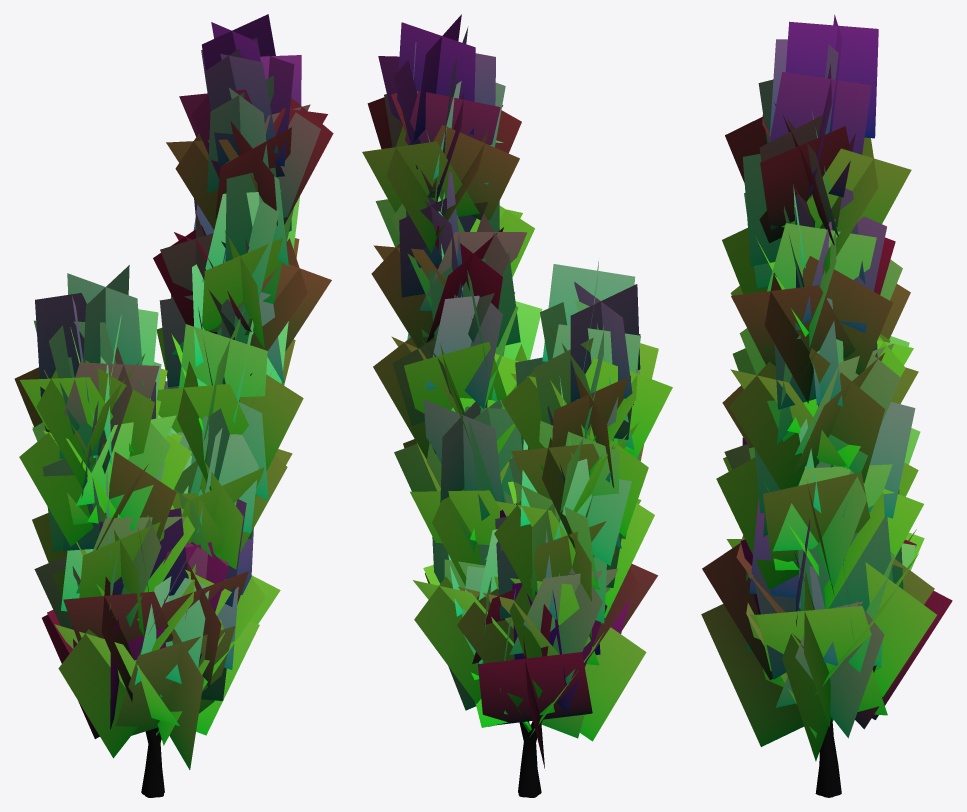
The model's file is Tree_6_10.fbx.
The picture shows the model from 3 angles, left to right: view 1: azimuth 30°, elevation 25°; view 2: azimuth 150°, elevation 25°; view 3: azimuth 270°, elevation 25°; orthographic projection. The views are drawn at different scales.
Parts seen in each view (by area): view 1: _10; view 2: _10; view 3: _10.
Boxes of the visible parts, x1,y1,x2,y2 form: _10: (14, 14, 333, 797); _10: (362, 14, 672, 797); _10: (701, 14, 952, 797).
Size of the model in its own units: 704 by 1680 by 469.
